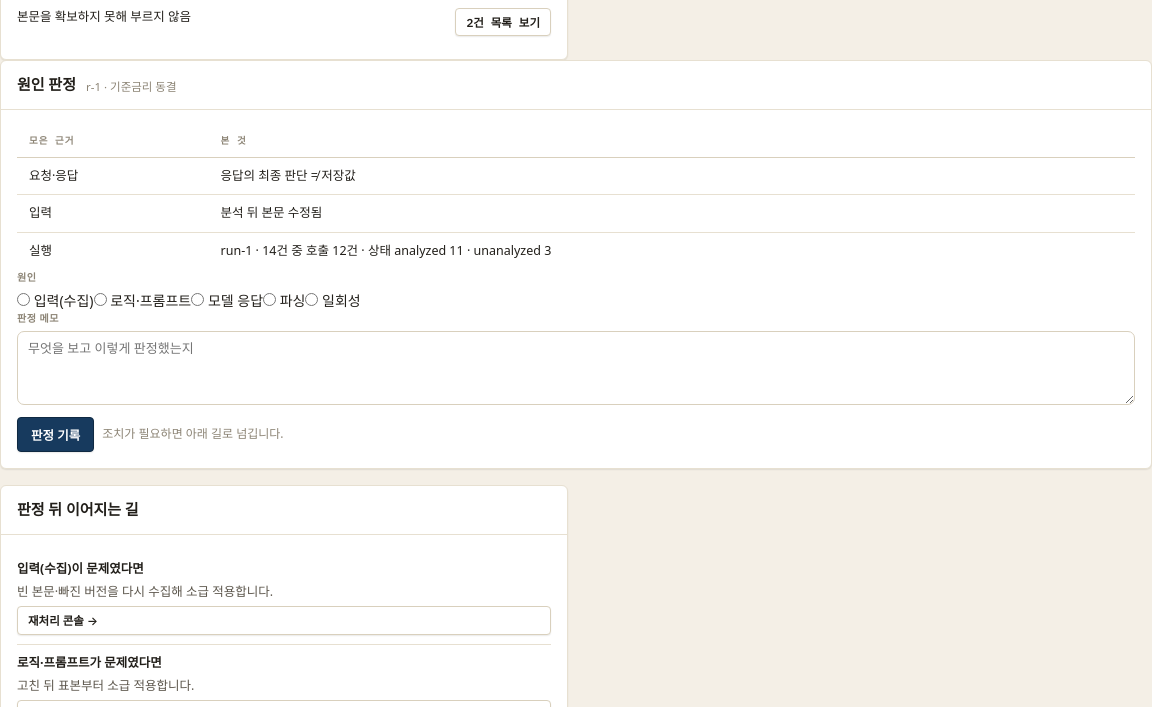
it: refuses a verdict without a cause, then without a memo
(page scrolled)
Submit the form, box x1=17 y1=270 x2=1135 y2=452
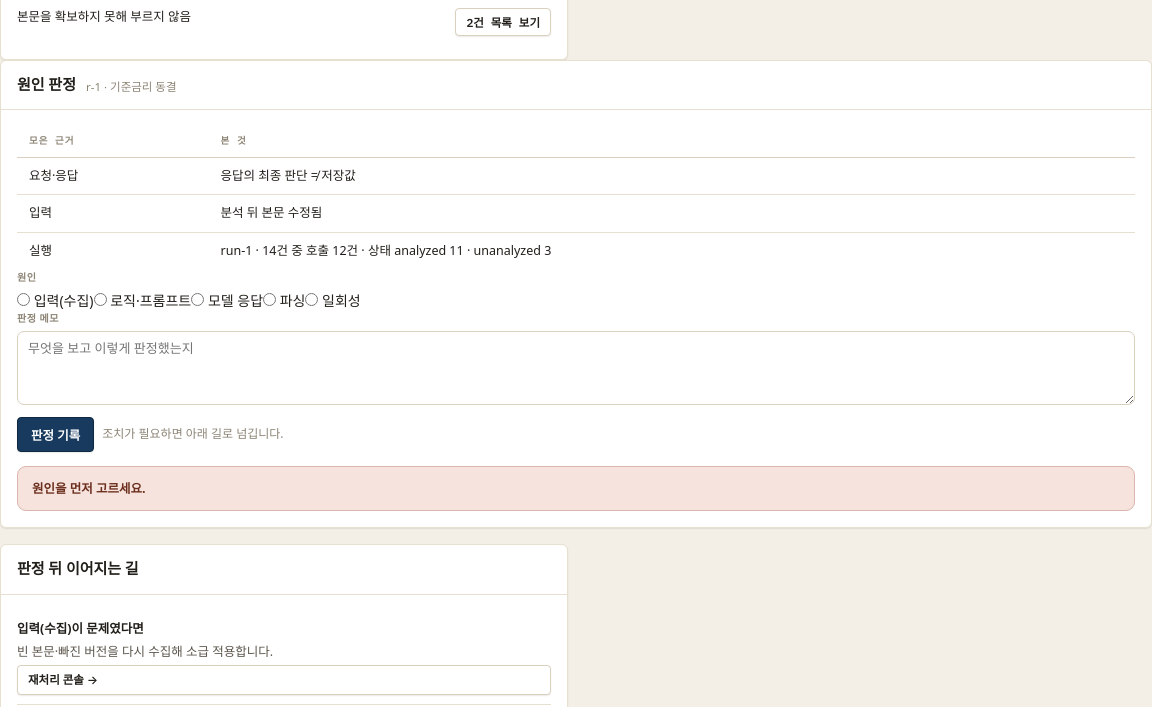
Expected: the text "원인을 먼저 고르세요." is shown, x1=32 y1=480 x2=146 y2=497
Click the radio button labelled "파싱" at (270, 300), box x1=263 y1=293 x2=276 y2=306
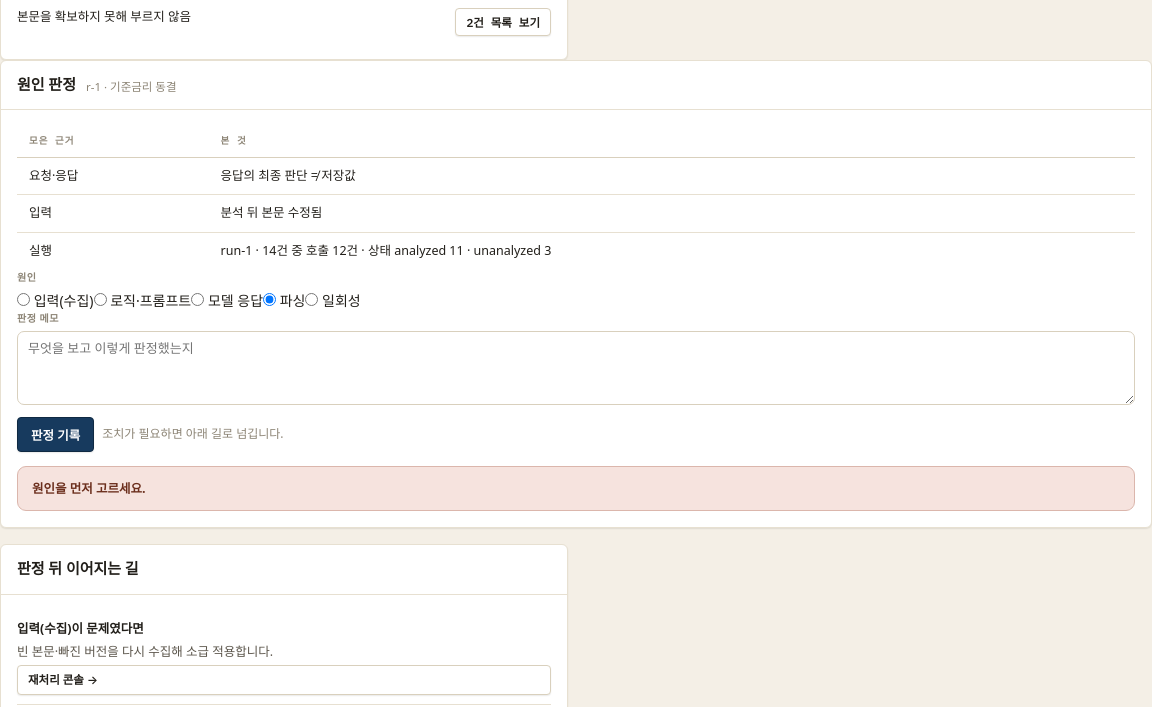
Submit the form, box x1=17 y1=270 x2=1135 y2=452
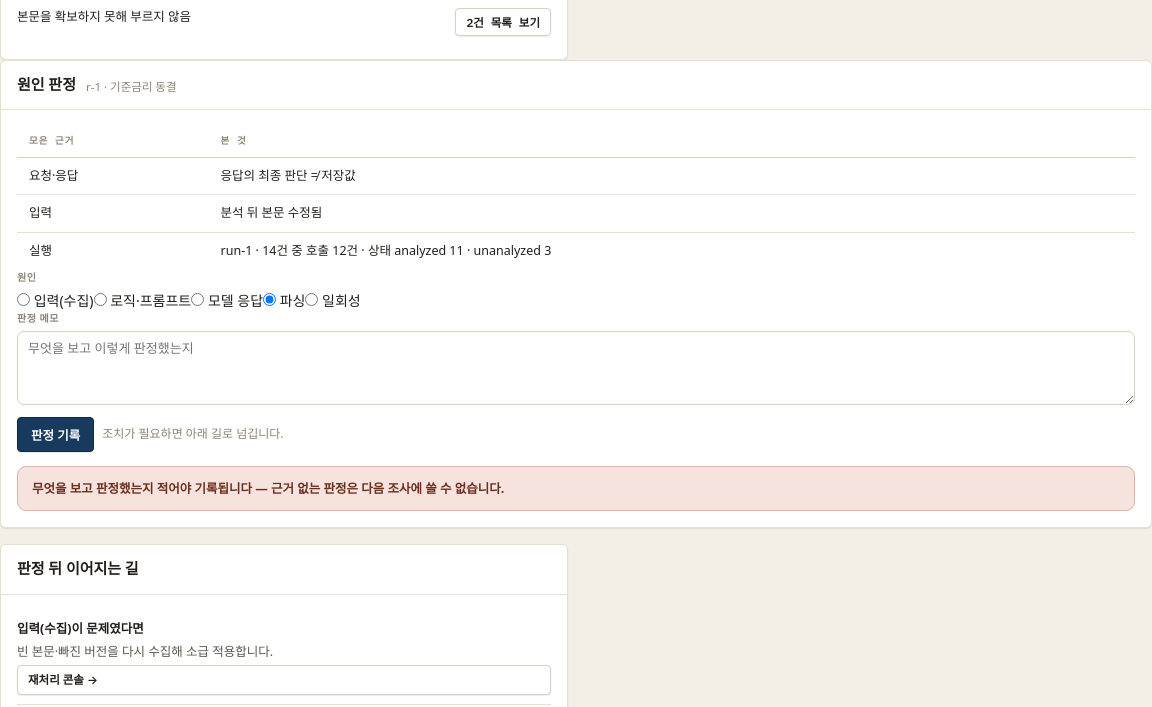
Expected: the text "근거 없는 판정은 다음 조사에 쓸 수 없습니다." is shown, x1=32 y1=480 x2=504 y2=497
